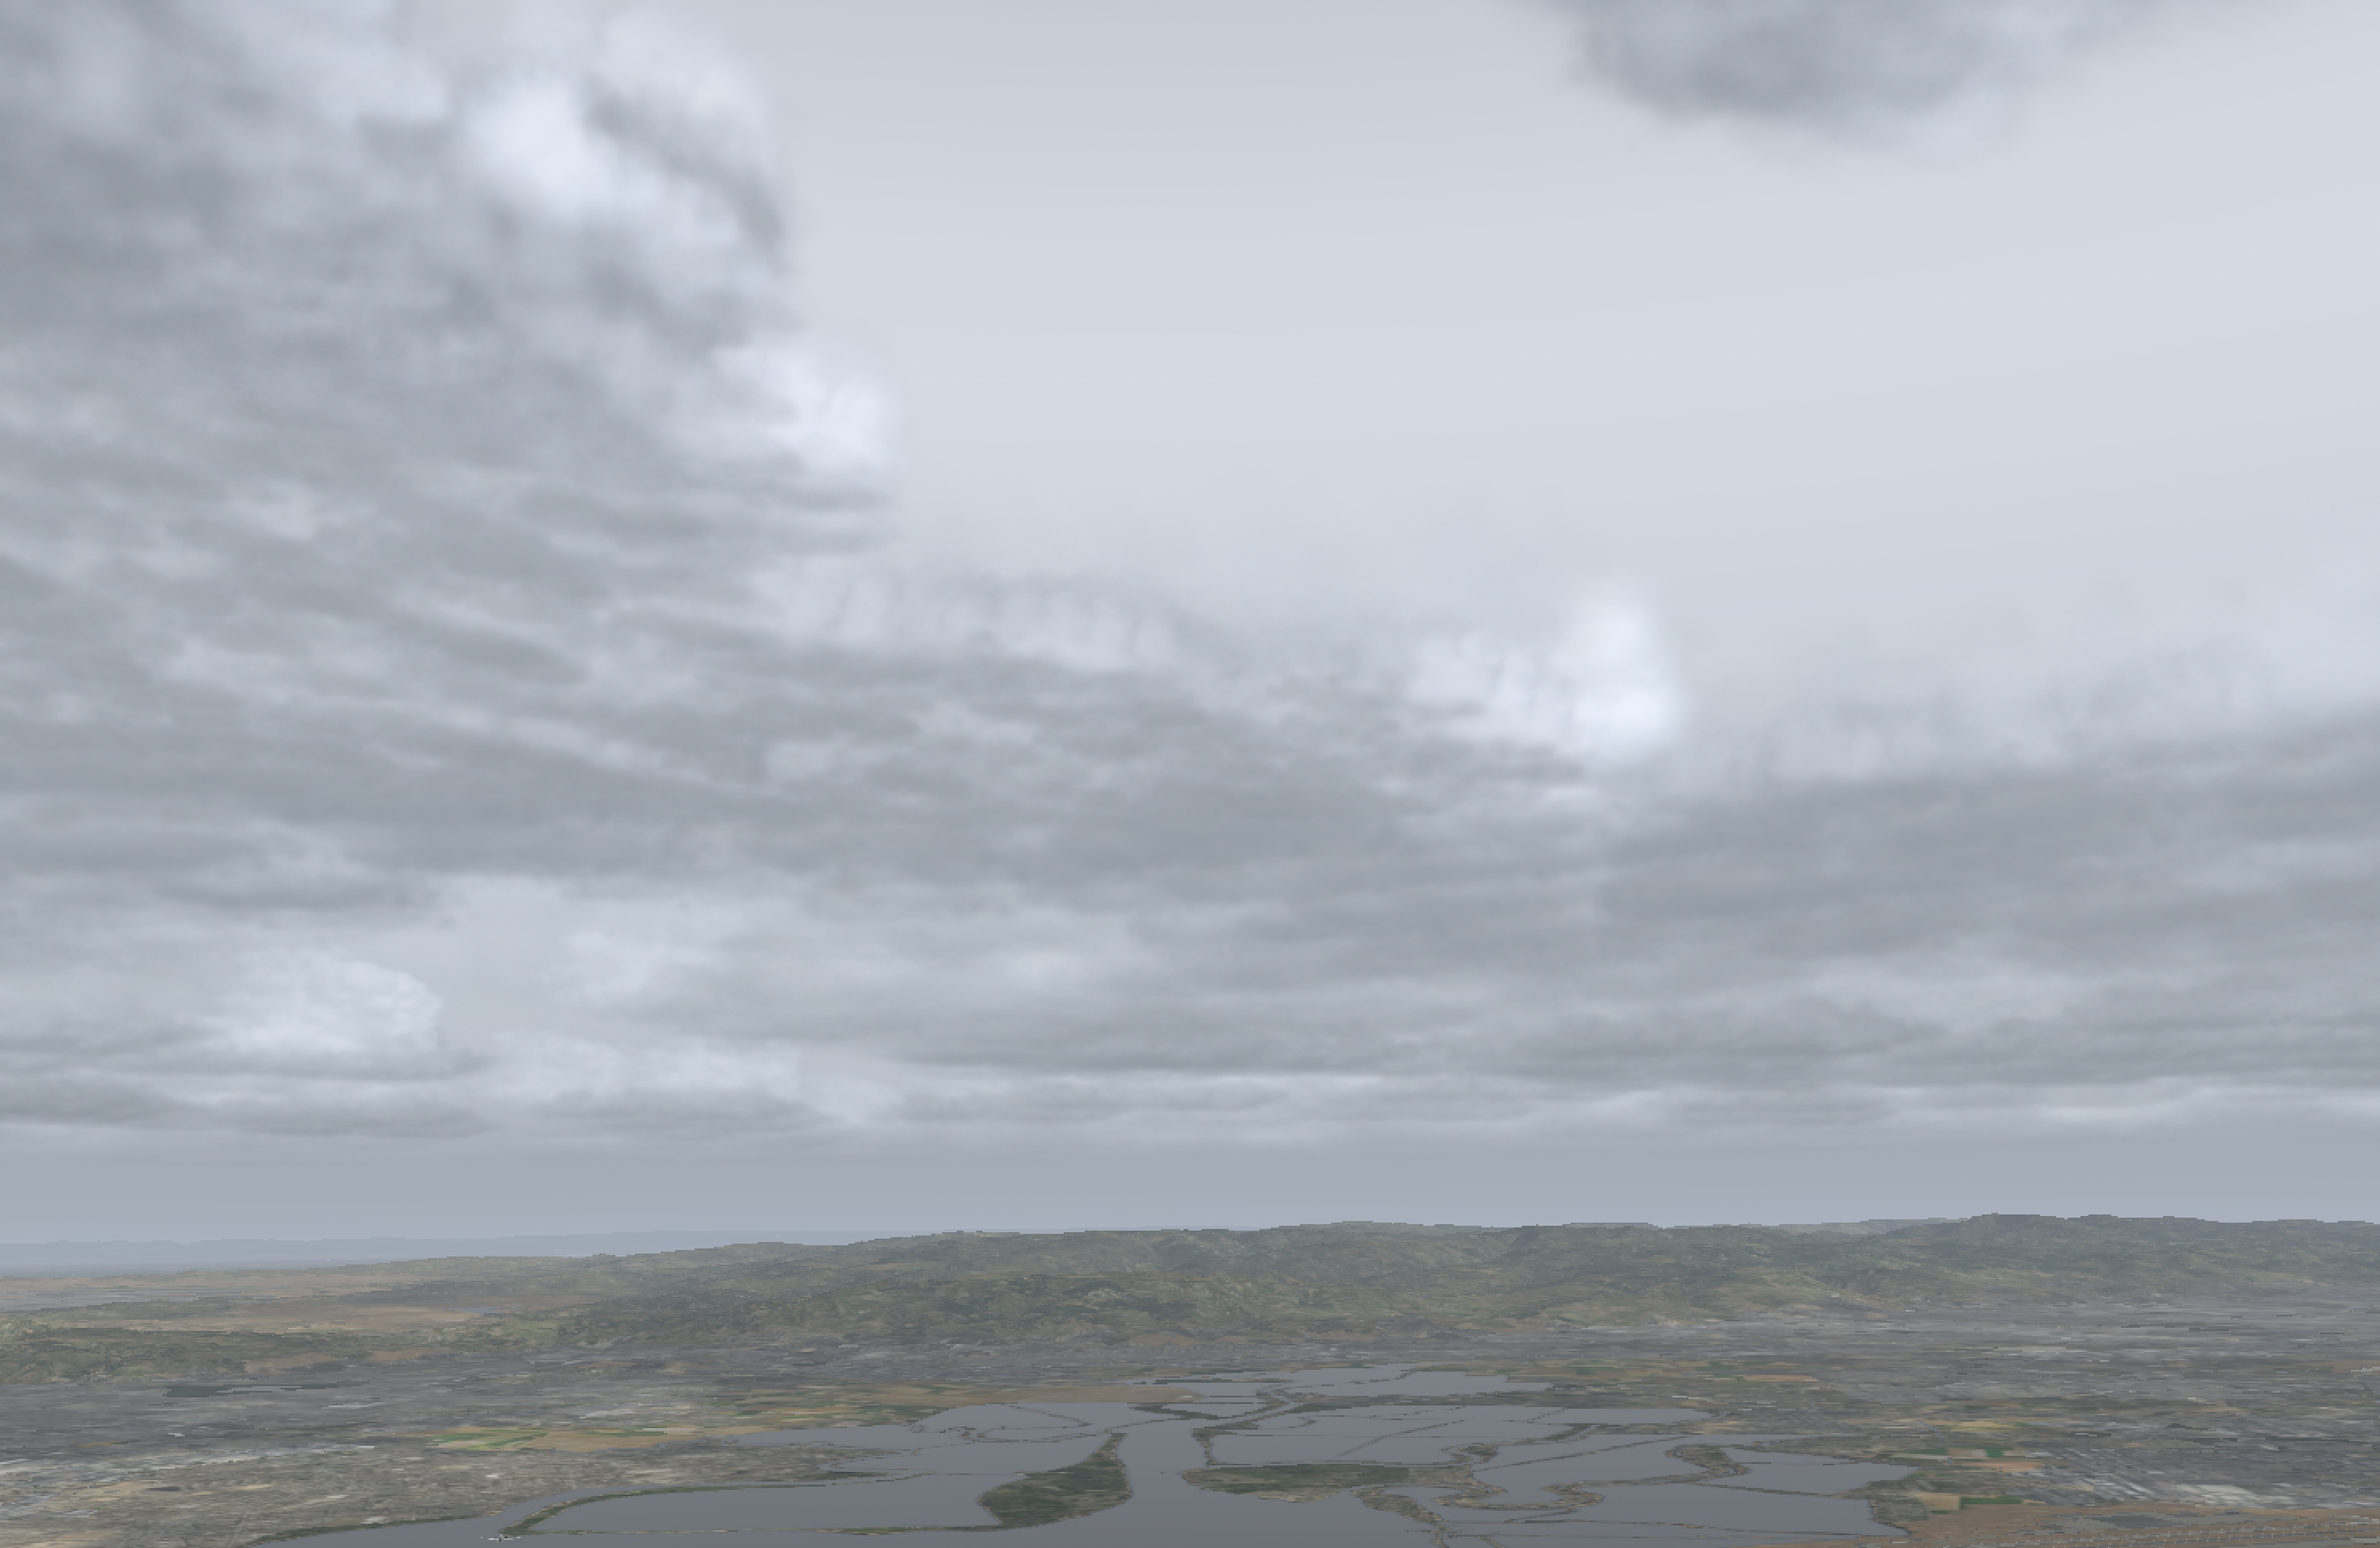aircraft: (482, 1534, 519, 1546)
